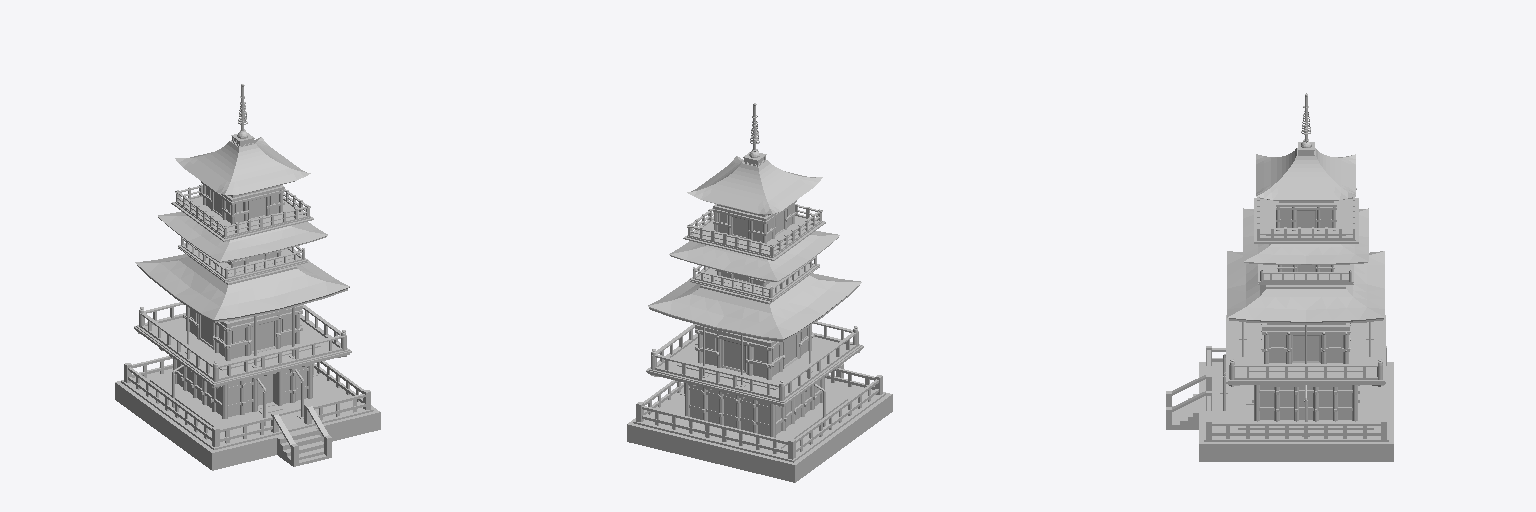
The model's file is Japanese_Temple.obj.
3 renders of one model, left to right at view 1: azimuth 30°, elevation 25°; view 2: azimuth 150°, elevation 25°; view 3: azimuth 270°, elevation 25°, orthographic.
Parts seen in each view (by area): view 1: Japanese_Shrine_Cylinder.011; view 2: Japanese_Shrine_Cylinder.011; view 3: Japanese_Shrine_Cylinder.011.
Part boxes in pixels (bbox=[...]): Japanese_Shrine_Cylinder.011: bbox=[115, 84, 380, 470]; Japanese_Shrine_Cylinder.011: bbox=[627, 103, 892, 482]; Japanese_Shrine_Cylinder.011: bbox=[1166, 93, 1393, 461].
Size of the model in its own units: 20 by 37.38 by 23.4.